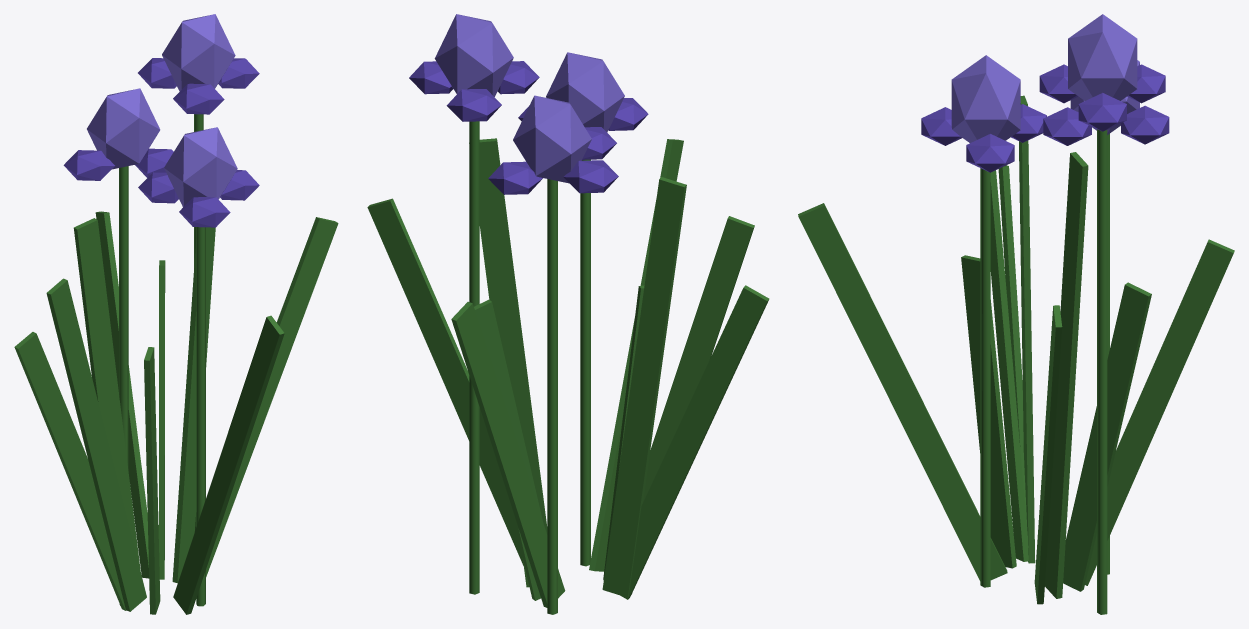
The model's file is iris.glb.
3 renders of one model, left to right at view 1: azimuth 30°, elevation 25°; view 2: azimuth 150°, elevation 25°; view 3: azimuth 270°, elevation 25°, orthographic. The views are drawn at different scales.
Parts seen in each view (by area): view 1: iris; view 2: iris; view 3: iris.
Boxes of the visible parts, left/top/right/bottom form: iris: left=14, top=14, right=338, bottom=614; iris: left=367, top=14, right=769, bottom=614; iris: left=798, top=14, right=1234, bottom=614.
Size of the model in its own units: 0.5426 by 0.8064 by 0.5365.
